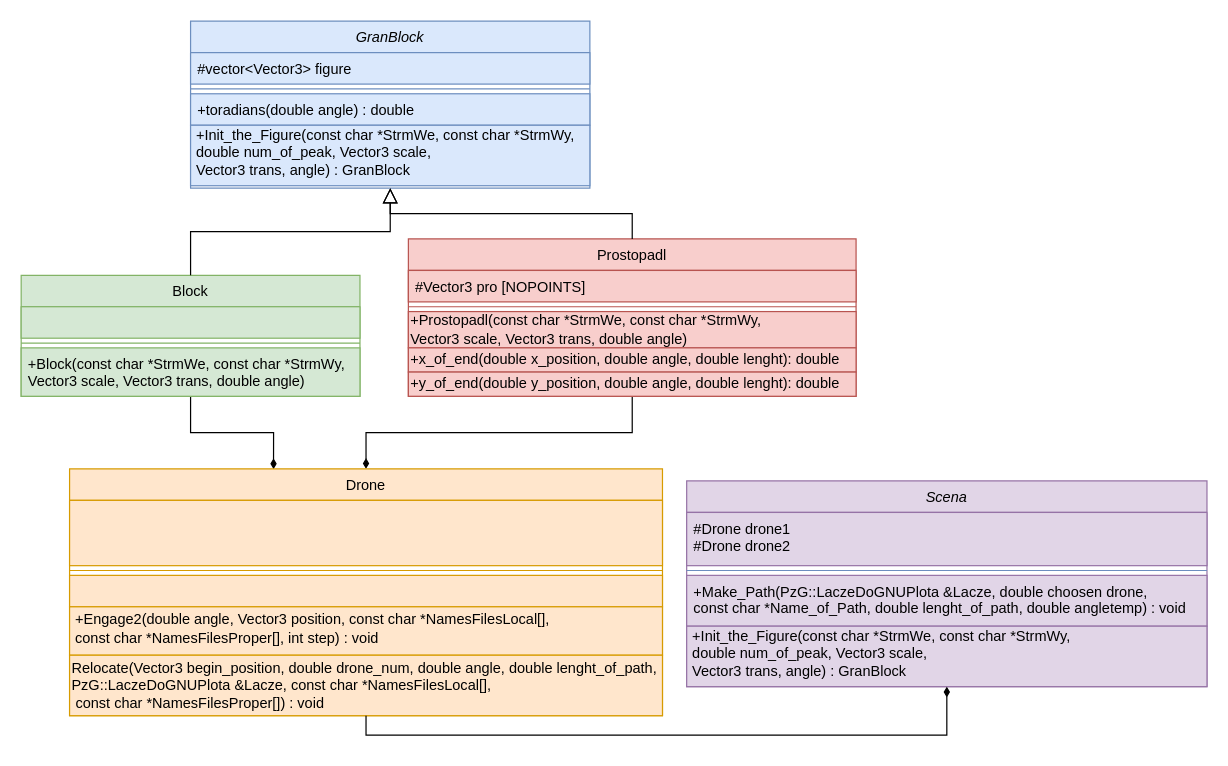
Some shapes in this 1228 by 766 pixel diagram are drawn without their labels. Each missing label, with the centre of its shape:
"#Block *rotor[4] #Prostopadl *corp{NOPOINTS] #Vector3 position[2]" belongs at point 365,532.
"#Vector3 rotor[28]" belongs at point 190,322.
"+Init(const char *NamesFilesLocal[], int step) : void" belongs at point 365,590.
